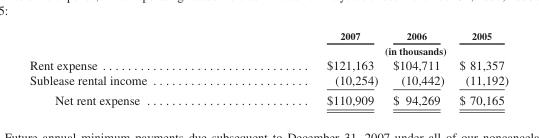table: (28, 29, 507, 106)
table column: (28, 29, 236, 106), (236, 29, 384, 106), (384, 29, 451, 106), (451, 29, 507, 106)
table column header: (28, 29, 507, 56)
table row: (28, 72, 507, 89), (28, 89, 507, 106), (28, 56, 507, 72), (28, 42, 507, 56), (28, 29, 507, 42)
table spanning cell: (236, 42, 507, 56)
